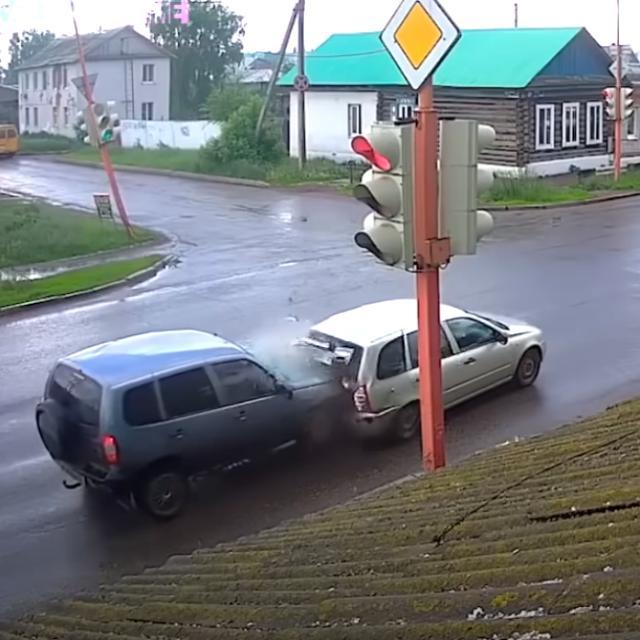accident: (38, 298, 544, 520)
